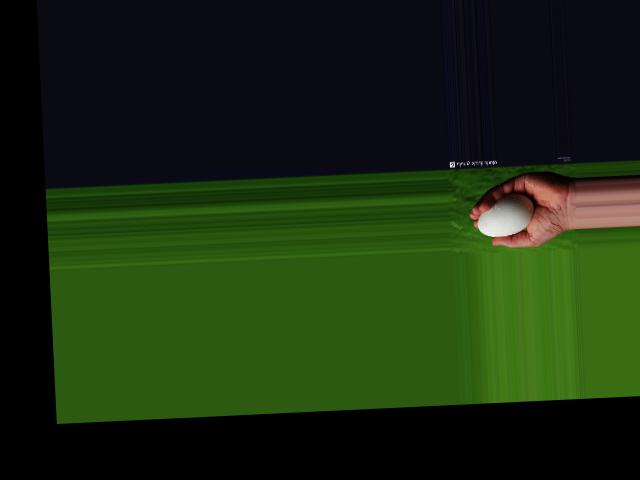egg: (477, 191, 536, 237)
